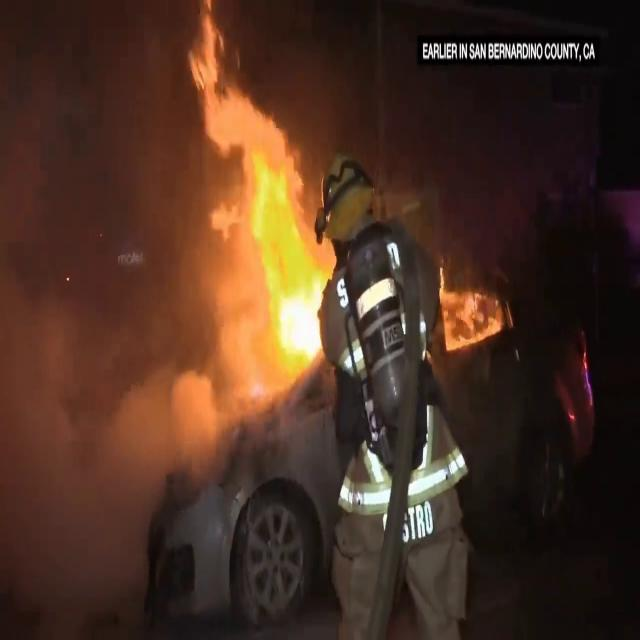Fire: (177, 11, 341, 381), (442, 270, 506, 358)
Smoke: (0, 1, 224, 571)
